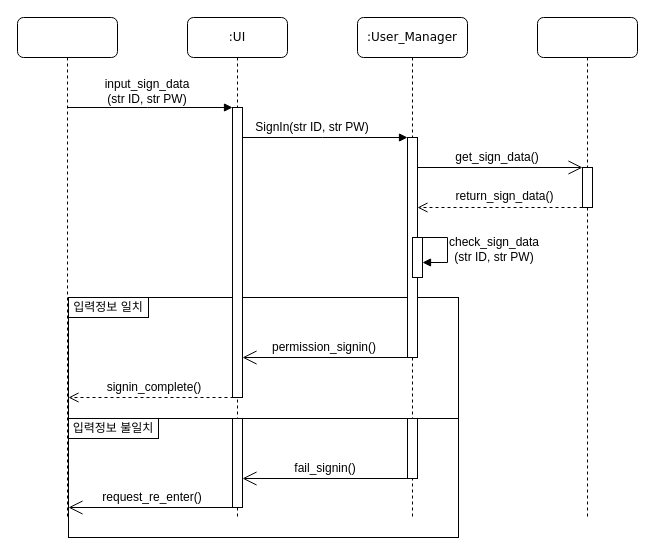
The diagram is 655 pixels wide and 555 high, and some of its shapes have lost their labels. Here are the shapes that lost their labels. From the top down, the box of each, then its label:
(16, 16, 118, 518): :User
(536, 16, 638, 518): :Database
